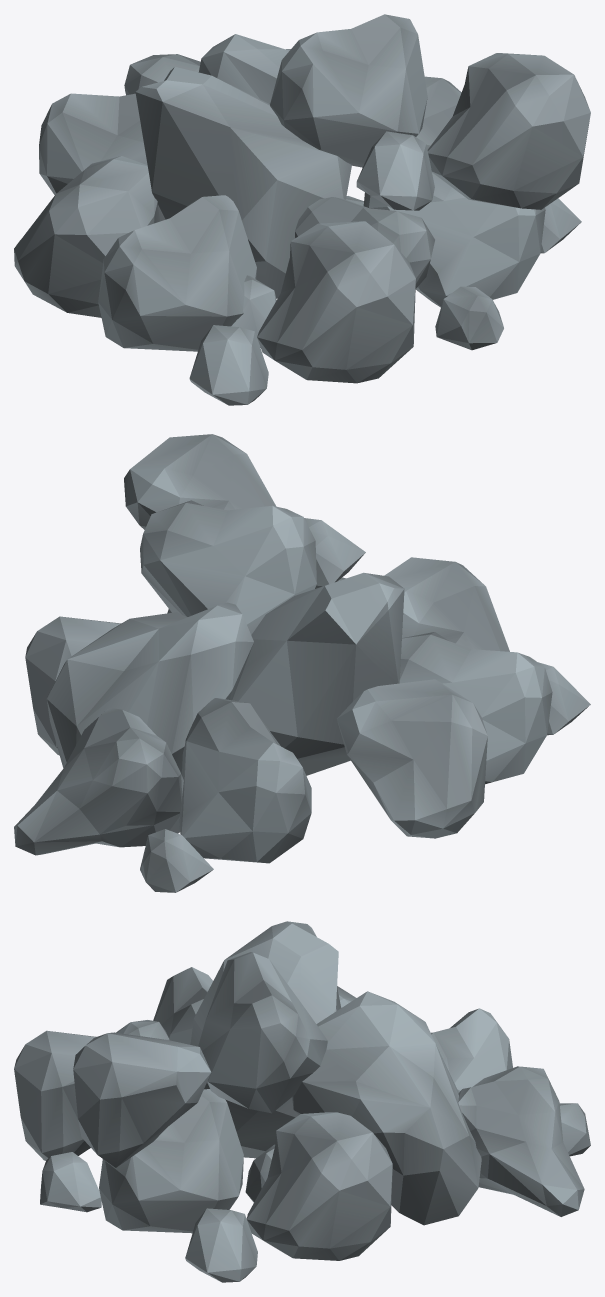
The model's file is Pedra bruta.fbx.
3 renders of one model, top to bottom at view 1: azimuth 30°, elevation 25°; view 2: azimuth 150°, elevation 25°; view 3: azimuth 270°, elevation 25°, orthographic. The views are drawn at different scales.
Visible parts, largest first — view 1: Pedra bruta; view 2: Pedra bruta; view 3: Pedra bruta.
Boxes of the visible parts, x1,y1,x2,y2 form: Pedra bruta: (14,14,590,405); Pedra bruta: (14,434,590,892); Pedra bruta: (14,921,590,1282).
Bounding box in the file's own units: 217 × 107 × 239.
